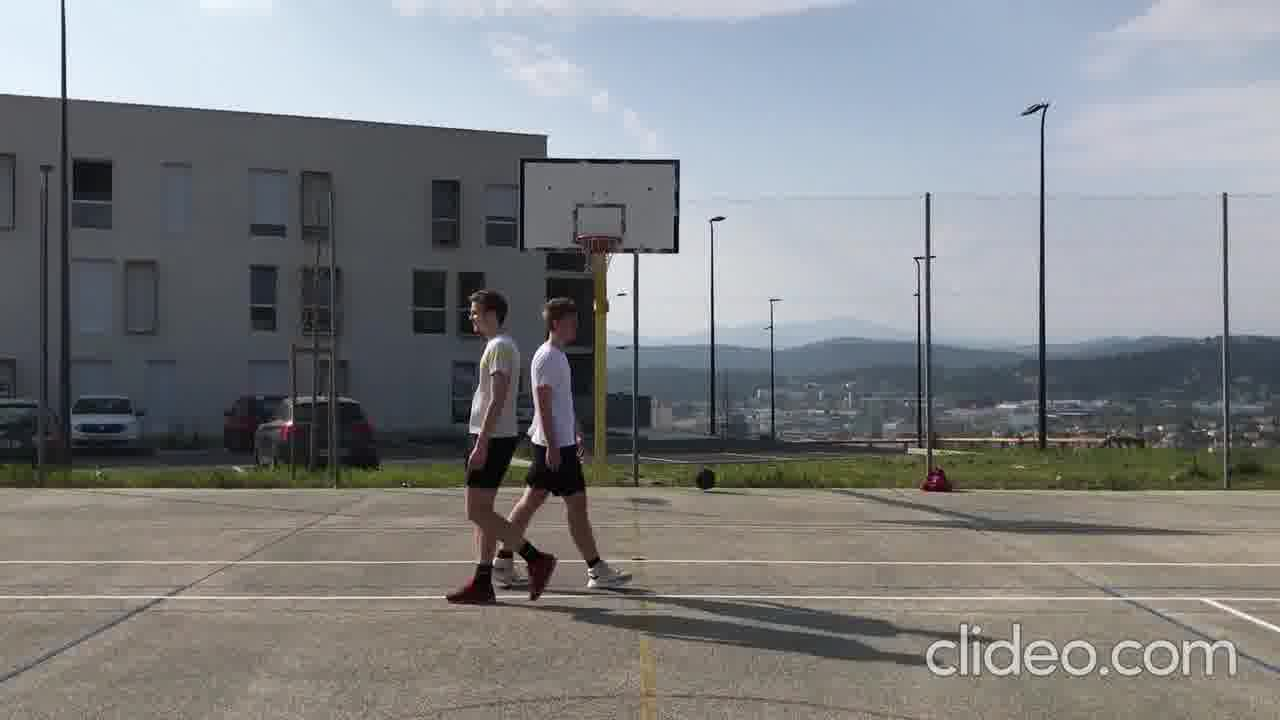jugador: (431, 275, 568, 614)
